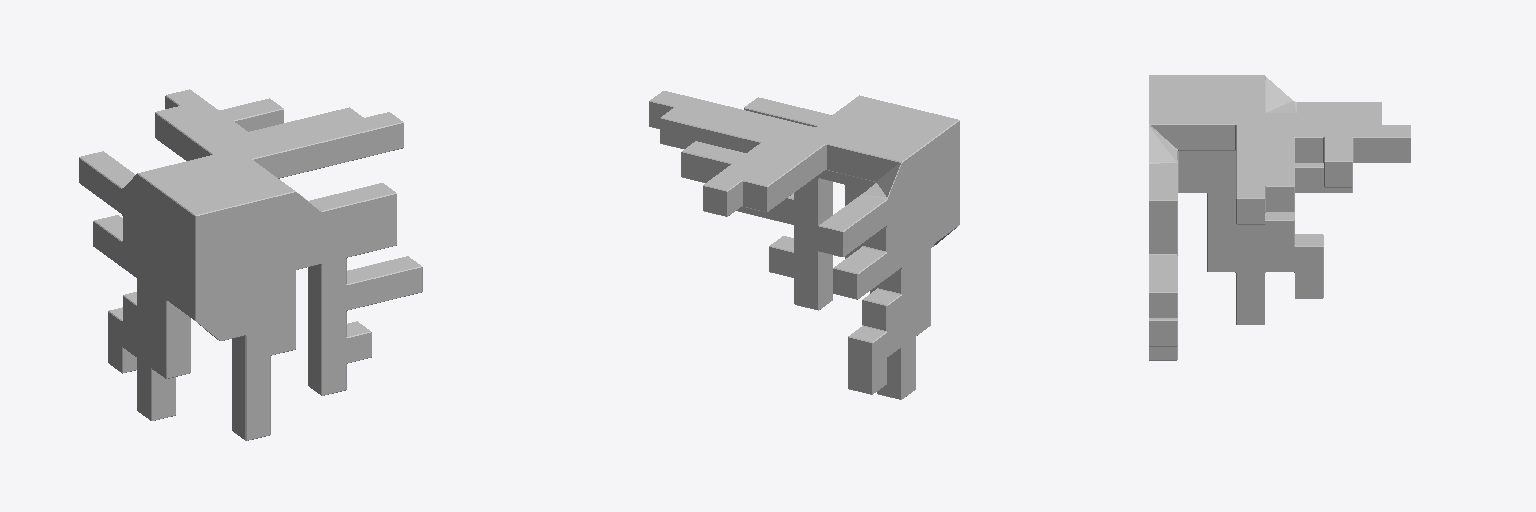
File: PuzzleCube1.obj
3 views of the same model, side by side, from view 1: azimuth 30°, elevation 25°; view 2: azimuth 150°, elevation 25°; view 3: azimuth 270°, elevation 25° (orthographic).
Parts seen in each view (by area): view 1: Cube.003_Cube.006; view 2: Cube.003_Cube.006; view 3: Cube.003_Cube.006.
Part boxes in pixels (x1,y1,x2,y2): Cube.003_Cube.006: (79,89,422,440); Cube.003_Cube.006: (649,91,959,399); Cube.003_Cube.006: (1149,75,1410,360).
Size of the model in its own units: 5 by 4.5 by 4.5.